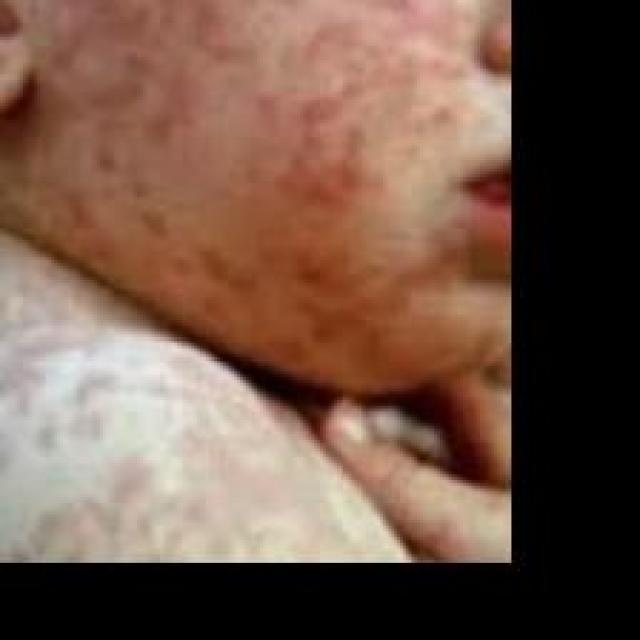others: (0, 0, 515, 571)
